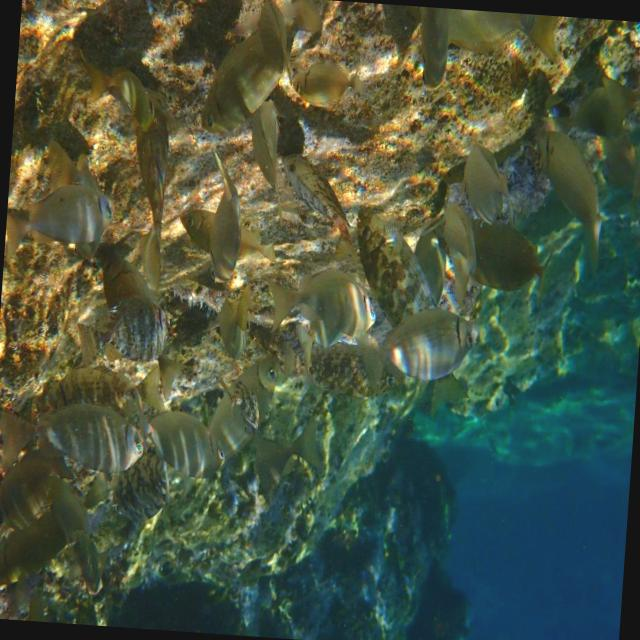Sokar Baligi: (341, 293, 498, 414), (0, 386, 154, 485), (2, 166, 124, 285)
